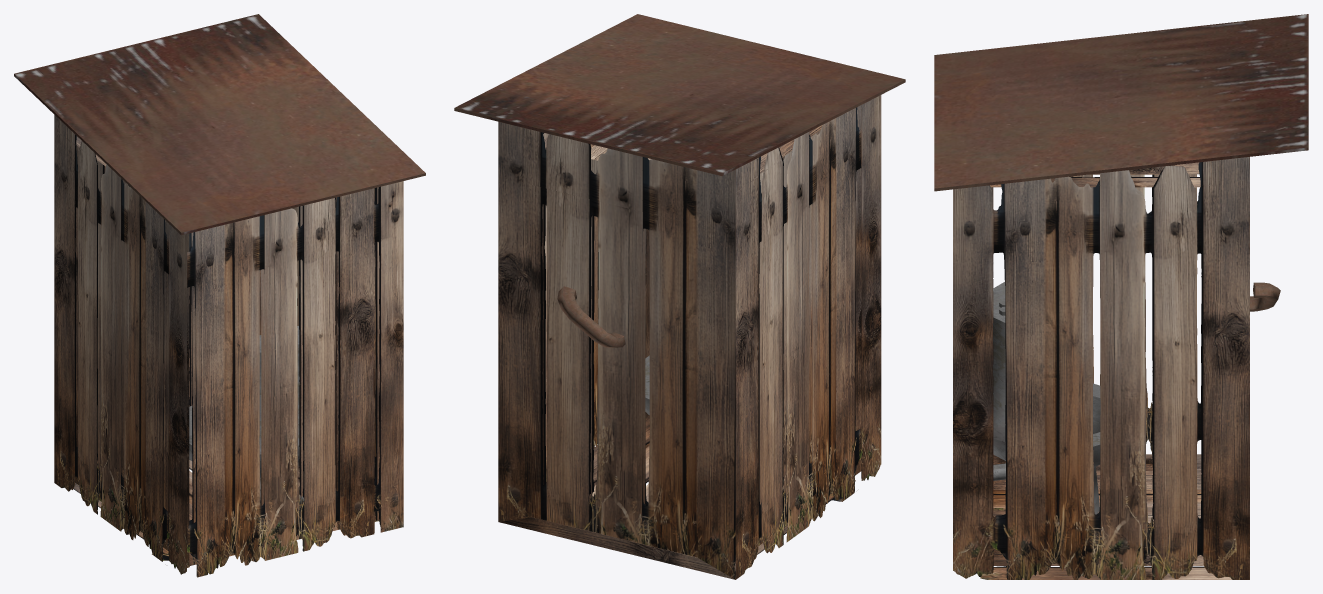
The model's file is ruined_house_2.glb.
The picture shows the model from 3 angles, left to right: view 1: azimuth 30°, elevation 25°; view 2: azimuth 150°, elevation 25°; view 3: azimuth 270°, elevation 25°; orthographic projection. The views are drawn at different scales.
Parts seen in each view (by area): view 1: Cube.118, Cube.120, Icosphere.004; view 2: Cube.118, Cube.119, Cube.120, Cylinder.007; view 3: Cube.118, Cube.120, Icosphere.004, Cylinder.007.
Boxes of the visible parts, x1=… form: Cube.118: x1=54, y1=115, x2=403, y2=577; Cube.120: x1=14, y1=14, x2=425, y2=235; Icosphere.004: x1=189, y1=326, x2=304, y2=503; Cube.118: x1=498, y1=95, x2=881, y2=579; Cube.119: x1=531, y1=185, x2=697, y2=557; Cube.120: x1=454, y1=14, x2=905, y2=176; Cylinder.007: x1=557, y1=286, x2=625, y2=347; Cube.118: x1=953, y1=157, x2=1249, y2=579; Cube.120: x1=934, y1=14, x2=1308, y2=191; Icosphere.004: x1=993, y1=282, x2=1100, y2=514; Cylinder.007: x1=1250, y1=282, x2=1280, y2=311.
Bounding box in the file's own units: 1.02 × 1.57 × 1.21.
Materials: 3 (3 with a texture image).
